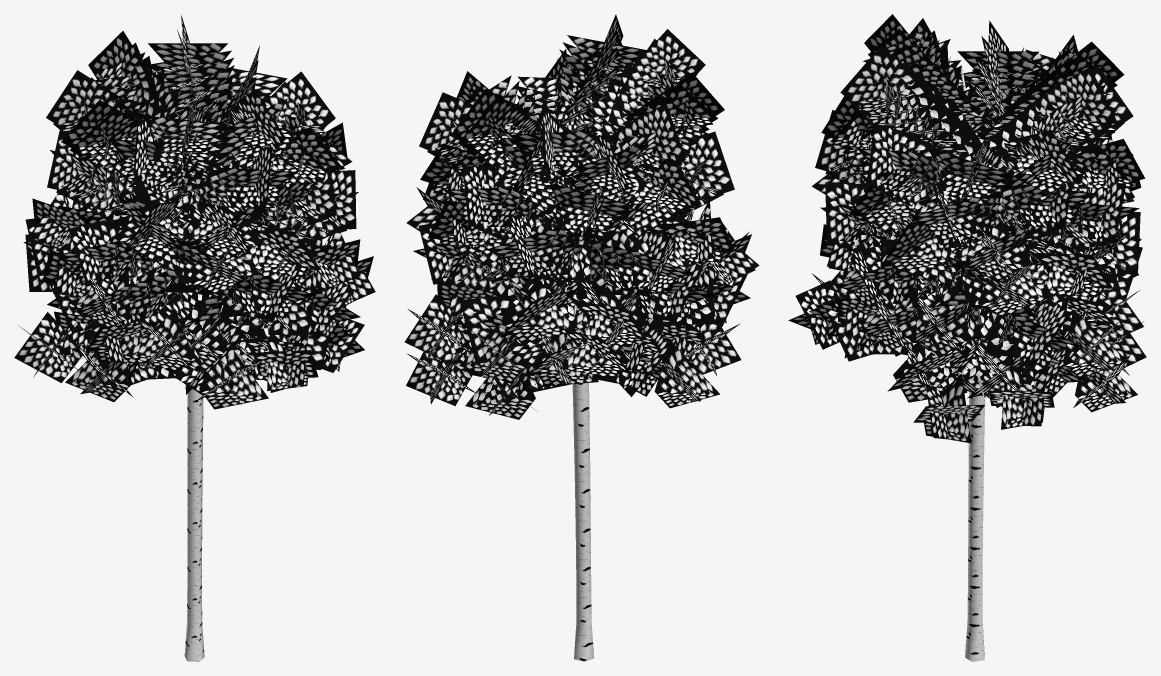
File: Tree_Blender_011_Birch.fbx
3 renders of one model, left to right at view 1: azimuth 30°, elevation 25°; view 2: azimuth 150°, elevation 25°; view 3: azimuth 270°, elevation 25°, orthographic. The views are drawn at different scales.
Visible parts, largest first — view 1: leafclumpatlas_birch_1, birchbarktextureseamless_0; view 2: leafclumpatlas_birch_1, birchbarktextureseamless_0; view 3: leafclumpatlas_birch_1, birchbarktextureseamless_0.
Boxes of the visible parts, x1,y1,x2,y2 form: leafclumpatlas_birch_1: (14, 14, 375, 409); birchbarktextureseamless_0: (76, 70, 276, 661); leafclumpatlas_birch_1: (404, 14, 759, 419); birchbarktextureseamless_0: (451, 200, 693, 661); leafclumpatlas_birch_1: (788, 14, 1146, 443); birchbarktextureseamless_0: (920, 67, 1083, 661).
Bounding box in the file's own units: 707 × 1363 × 712.
